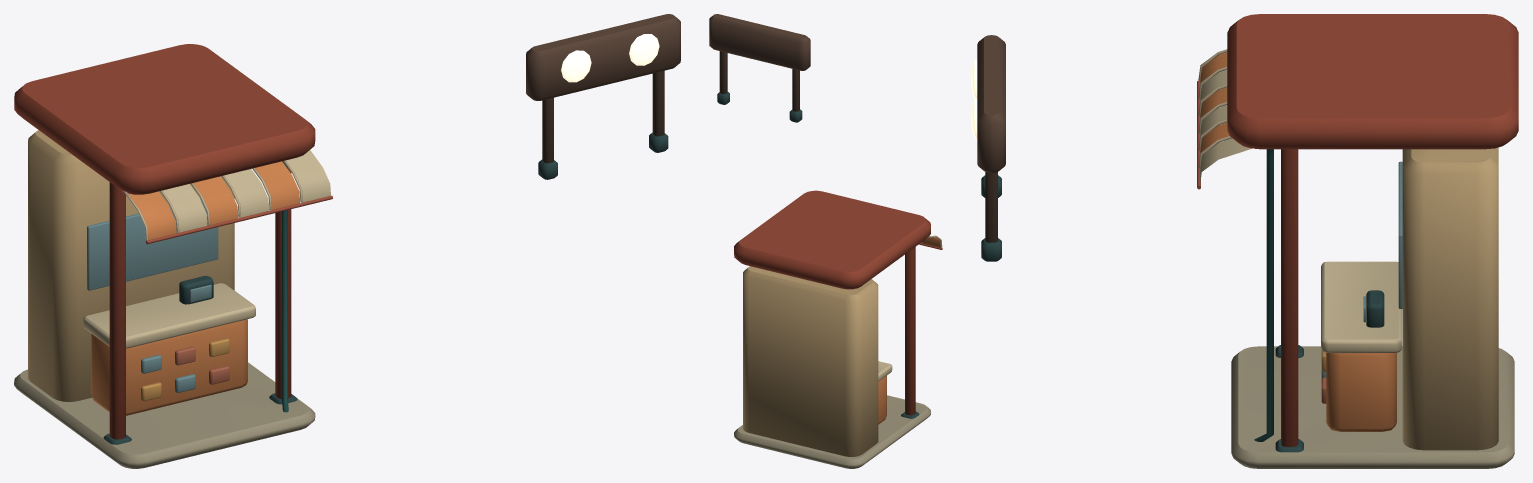
File: valley_market_4.glb
3 views of the same model, side by side, from view 1: azimuth 30°, elevation 25°; view 2: azimuth 150°, elevation 25°; view 3: azimuth 270°, elevation 25° (orthographic). The views are drawn at different scales.
Visible parts, largest first — view 1: Market4; view 2: Market4; view 3: Market4.
Part boxes in pixels (x1=…): Market4: x1=14, y1=14, x2=680, y2=468; Market4: x1=709, y1=14, x2=942, y2=468; Market4: x1=971, y1=14, x2=1518, y2=468.
Size of the model in its own units: 5.28 by 4.8 by 4.79.
